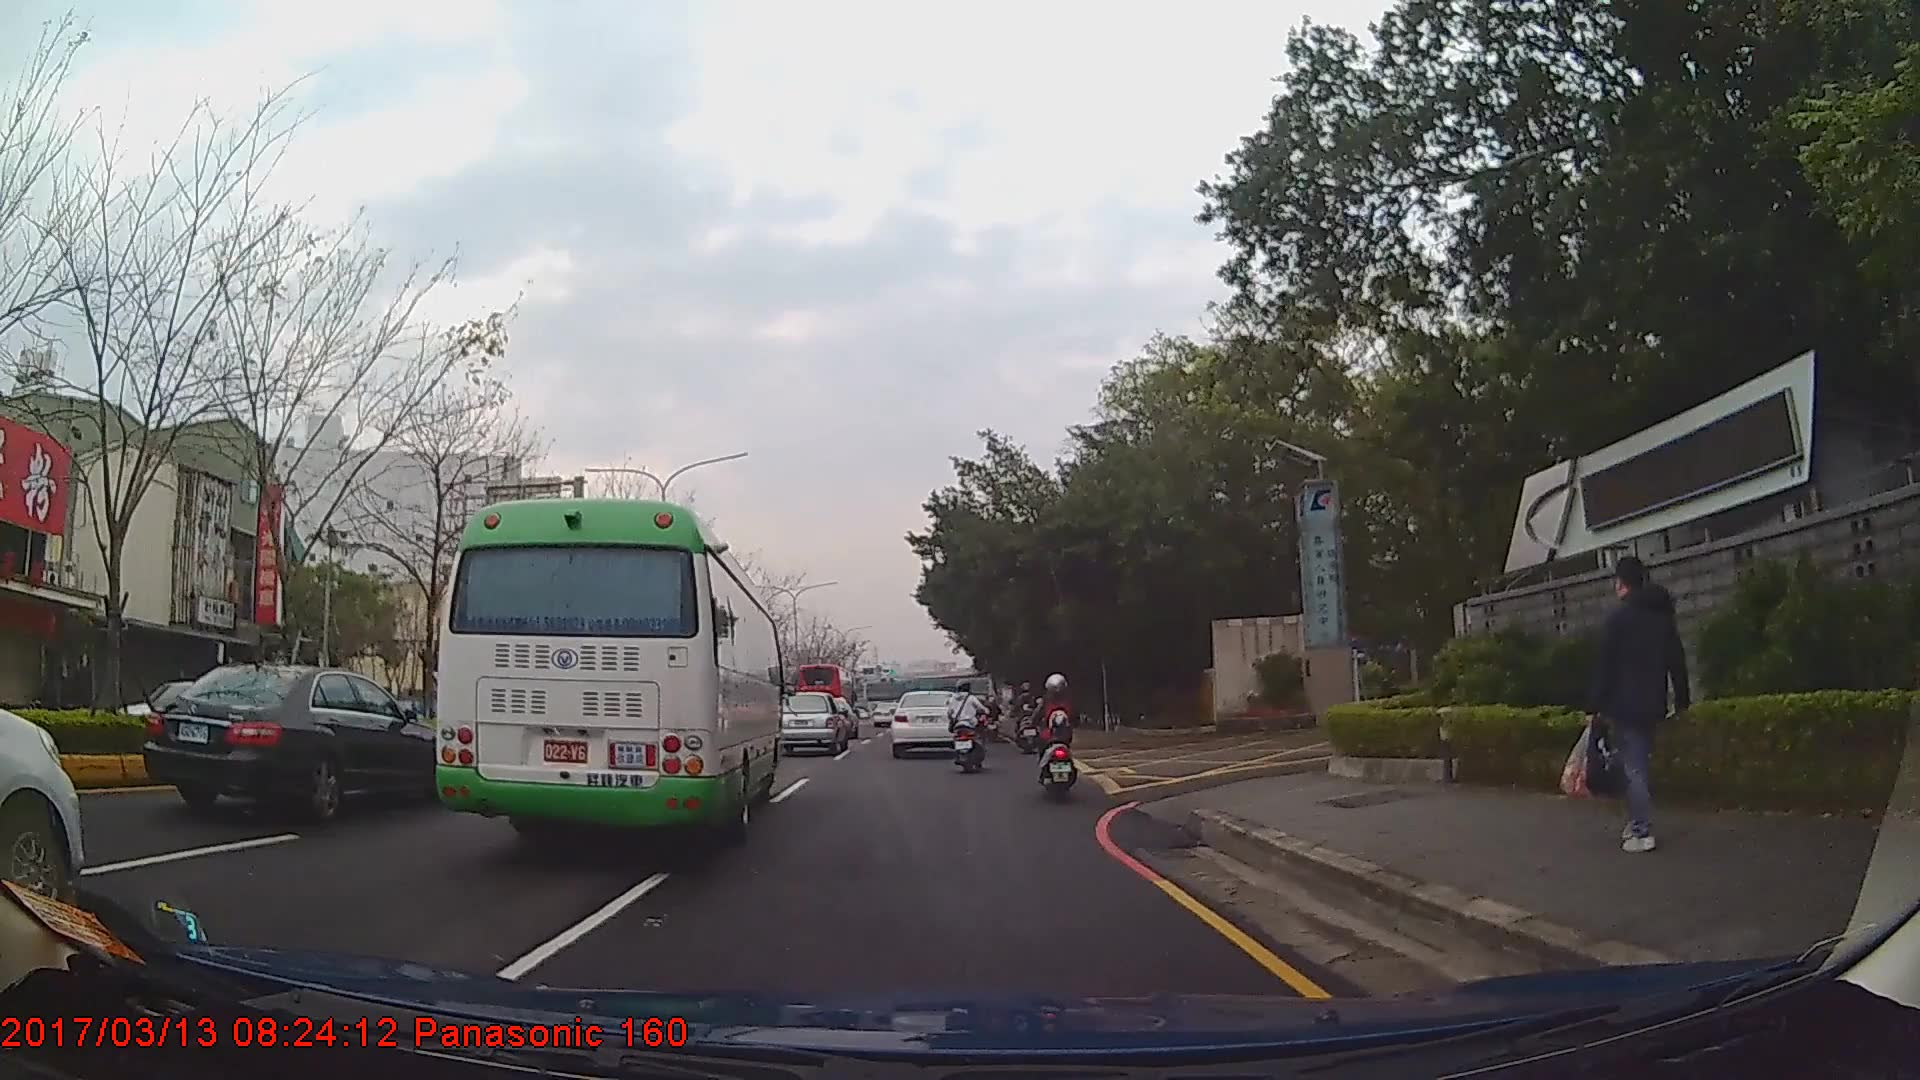pedestrian: (1571, 561, 1704, 853)
rider: (1038, 675, 1080, 796), (946, 678, 986, 772), (1013, 676, 1043, 751)
vehicle: (426, 494, 782, 847), (141, 658, 455, 823), (889, 687, 965, 757), (778, 690, 852, 756)
